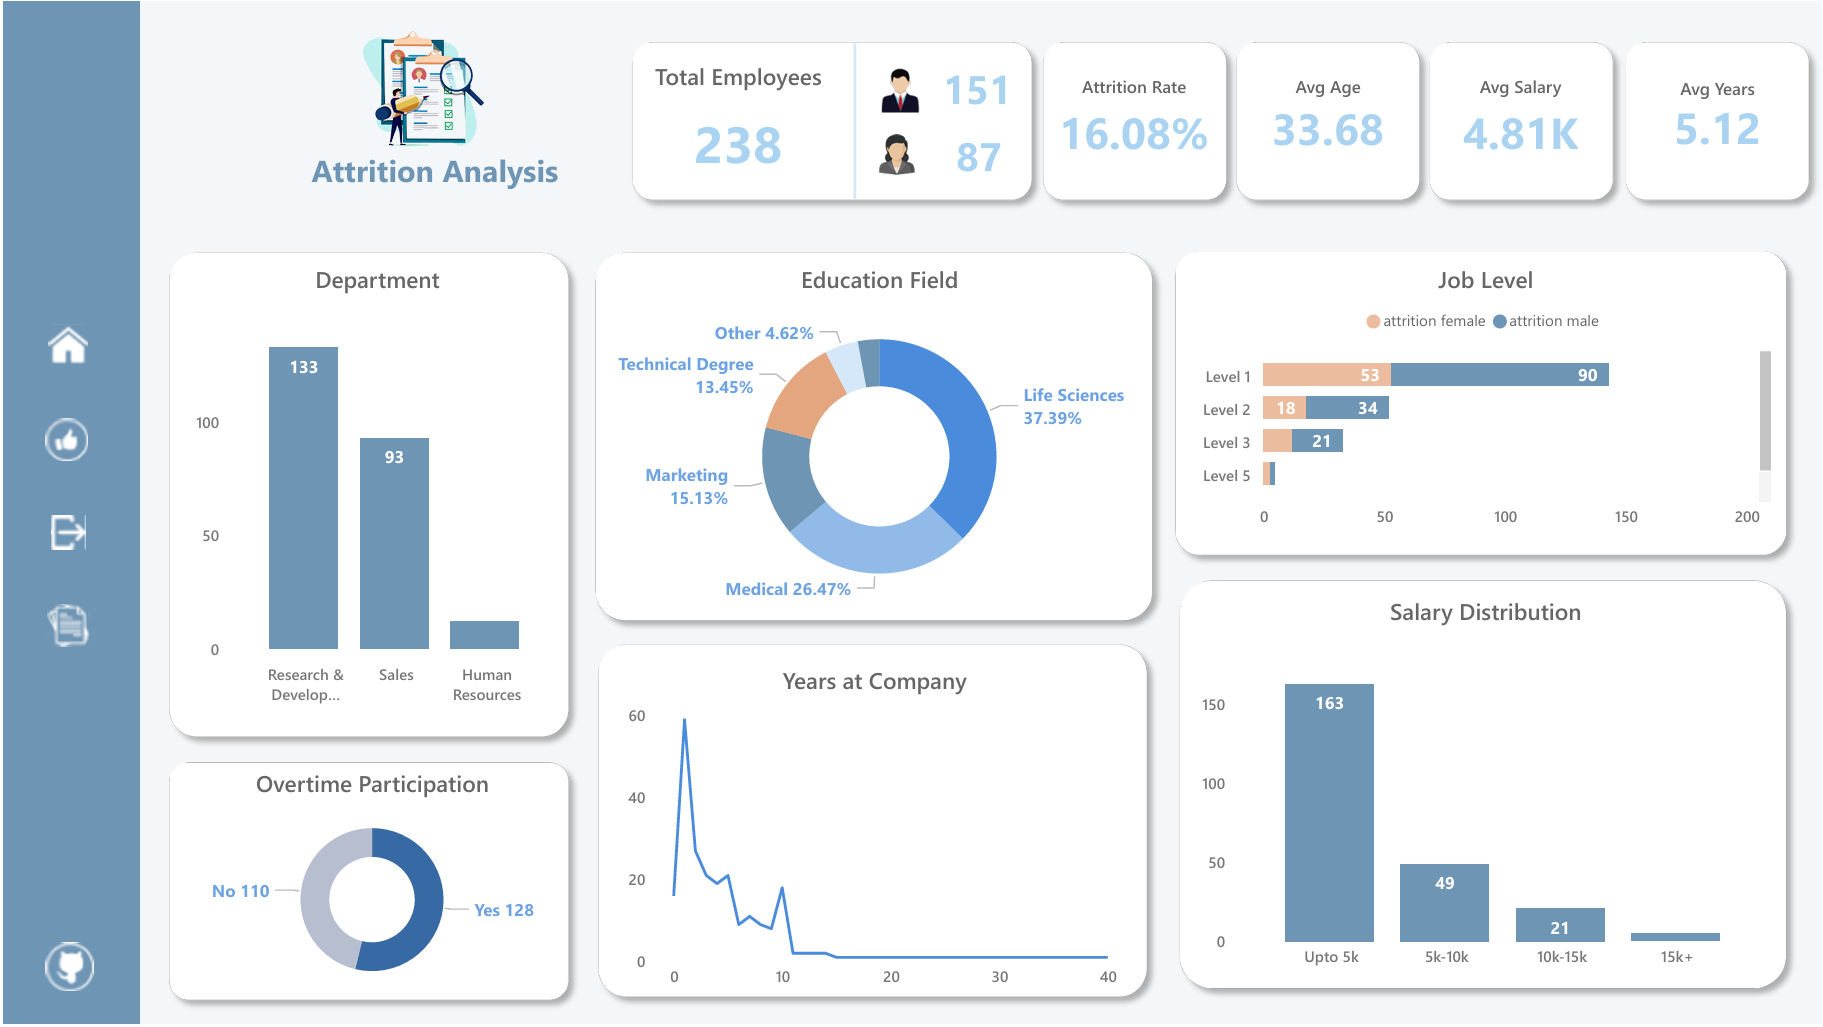

The page's visual inventory and layout, read from the dashboard file:
{"tool":"powerbi","page":{"name":"Attrition ","canvas":[1280,720],"ordinal":2},"visuals":[{"type":"shape","box":[819.2,399.3,444.6,304.6],"z":0},{"type":"shape","box":[410,444.3,404.3,265.7],"z":1000},{"type":"shape","box":[816.5,167.4,447.3,231.9],"z":2000},{"type":"shape","box":[1132.7,20,147.3,128.7],"z":3000},{"type":"shape","box":[995.3,20,146.7,128.7],"z":4000},{"type":"shape","box":[858.7,20,147.3,128.7],"z":5000},{"type":"shape","box":[108.3,526.7,298.3,185],"z":6000},{"type":"shape","box":[434.2,20.1,299,128.7],"z":7000},{"type":"shape","box":[407.5,167.5,410,277.5],"z":8000},{"type":"card","title":"Total Employees","fields":{"Values":["All Measure.Atrrition total"]},"box":[428.8,41.6,177.2,94.4],"z":9000},{"type":"card","fields":{"Values":["All Measure.attrition female"]},"box":[652.1,90.3,68.4,38.4],"z":10000},{"type":"card","fields":{"Values":["All Measure.attrition male"]},"box":[646.1,43.1,78.8,38.8],"z":11000},{"type":"image","box":[608.6,38.1,45.7,47.9],"z":12000},{"type":"image","box":[602.9,88.8,51.4,38.6],"z":13000},{"type":"shape","box":[559.9,28.7,79.3,110.7],"z":14000},{"type":"card","title":"Avg Age","fields":{"Values":["All Measure.age by attrition"]},"box":[856.7,51.7,151.7,60],"z":15000},{"type":"shape","box":[108.3,168.3,298.3,358.3],"z":16000},{"type":"columnChart","title":"Department","fields":{"Category":["HR_Analytics.Department"],"Y":["All Measure.Atrrition total"]},"box":[130,185,266.7,318.3],"z":17000},{"type":"card","title":"Avg Salary","fields":{"Values":["All Measure.salary by attrition"]},"box":[998.3,51.7,140,66.7],"z":18000},{"type":"card","title":"Avg Years","fields":{"Values":["All Measure.Years by attrition"]},"box":[1150,53.3,113.3,56.7],"z":19000},{"type":"donutChart","title":"Education Field","fields":{"Category":["HR_Analytics.EducationField"],"Y":["All Measure.Atrrition total"]},"box":[422.5,185,388.8,248.8],"z":20000},{"type":"textbox","title":"Attrition Analysis","box":[188.6,104.3,230,37.1],"z":21000},{"type":"image","box":[233,0,123,125],"z":22000},{"type":"shape","box":[723.2,19.9,147.1,128.8],"z":23000},{"type":"card","title":"Attrition Rate","fields":{"Values":["All Measure.% attrition"]},"box":[734.3,52.3,124.1,64.7],"z":24000},{"type":"lineChart","title":"Years at Company","fields":{"Y":["All Measure.Atrrition total"],"Category":["HR_Analytics.Years at company"]},"box":[434.3,467.1,358.6,237.1],"z":25000},{"type":"donutChart","title":"Overtime Participation","fields":{"Category":["HR_Analytics.OverTime"],"Y":["All Measure.Atrrition total"]},"box":[130,540,260,163.3],"z":26000},{"type":"clusteredColumnChart","title":"Salary Distribution","fields":{"Y":["All Measure.Atrrition total"],"Category":["HR_Analytics.SalarySlab"]},"box":[838.4,418.5,410.3,271.7],"z":27000},{"type":"barChart","title":"Job Level","fields":{"Category":["HR_Analytics.Job Level Status"],"Y":["All Measure.attrition female","All Measure.attrition male"]},"box":[838.4,185.2,410.3,194.9],"z":28000},{"type":"shape","box":[0,0,95.7,720],"z":29000},{"type":"actionButton","box":[27.8,224.4,43.3,35.6],"z":30000},{"type":"actionButton","box":[30,355,31.7,38.3],"z":31000},{"type":"actionButton","box":[25.6,290,43.3,37.8],"z":32000},{"type":"actionButton","box":[26.7,421.1,44.4,37.8],"z":33000},{"type":"actionButton","box":[25.7,658.6,48.6,42.9],"z":34000}]}

Visuals, with their boxes on the page's 1280x720 design canvas (x1, y1, x2, y2). These are canvas units, not pixel positions in the 1823x1027 screenshot, which may show the page scaled, cropped or inside an application window:
shape: region(819, 399, 1264, 704)
shape: region(410, 444, 814, 710)
shape: region(816, 167, 1264, 399)
shape: region(1133, 20, 1280, 149)
shape: region(995, 20, 1142, 149)
shape: region(859, 20, 1006, 149)
shape: region(108, 527, 407, 712)
shape: region(434, 20, 733, 149)
shape: region(408, 168, 818, 445)
"Total Employees" card: region(429, 42, 606, 136)
card - All Measure.attrition female: region(652, 90, 720, 129)
card - All Measure.attrition male: region(646, 43, 725, 82)
image: region(609, 38, 654, 86)
image: region(603, 89, 654, 127)
shape: region(560, 29, 639, 139)
"Avg Age" card: region(857, 52, 1008, 112)
shape: region(108, 168, 407, 527)
"Department" columnChart: region(130, 185, 397, 503)
"Avg Salary" card: region(998, 52, 1138, 118)
"Avg Years" card: region(1150, 53, 1263, 110)
"Education Field" donutChart: region(422, 185, 811, 434)
"Attrition Analysis" textbox: region(189, 104, 419, 141)
image: region(233, 0, 356, 125)
shape: region(723, 20, 870, 149)
"Attrition Rate" card: region(734, 52, 858, 117)
"Years at Company" lineChart: region(434, 467, 793, 704)
"Overtime Participation" donutChart: region(130, 540, 390, 703)
"Salary Distribution" clusteredColumnChart: region(838, 418, 1249, 690)
"Job Level" barChart: region(838, 185, 1249, 380)
shape: region(0, 0, 96, 720)
actionButton: region(28, 224, 71, 260)
actionButton: region(30, 355, 62, 393)
actionButton: region(26, 290, 69, 328)
actionButton: region(27, 421, 71, 459)
actionButton: region(26, 659, 74, 702)
